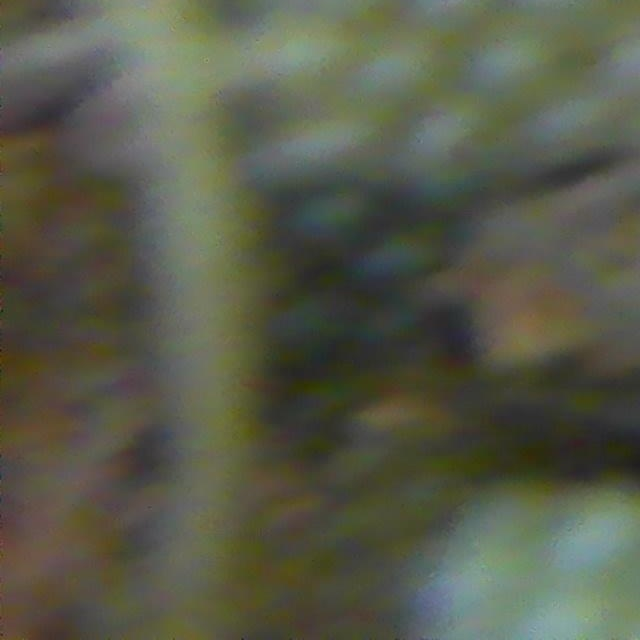SeaGrape: (402, 91, 495, 187), (525, 79, 616, 164), (266, 12, 353, 96), (356, 26, 442, 107), (469, 20, 555, 100)
